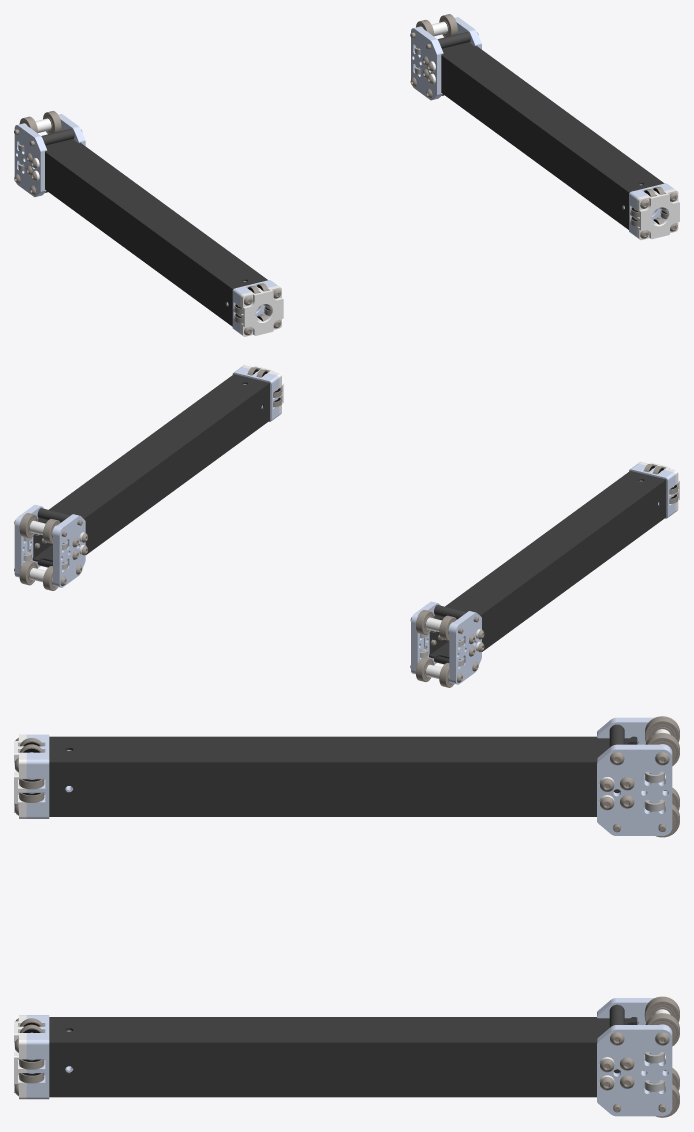
Rendered from Snapback_Climber_Middle_Stage.glb.
The picture shows the model from 3 angles, top to bottom: view 1: azimuth 30°, elevation 25°; view 2: azimuth 150°, elevation 25°; view 3: azimuth 270°, elevation 25°; orthographic projection. The views are drawn at different scales.
Visible parts, largest first — view 1: NAUO99, NAUO83, NAUO86, NAUO102, NAUO87, NAUO103; view 2: NAUO83, NAUO99, NAUO102, NAUO86, NAUO87, NAUO103; view 3: NAUO99, NAUO83, NAUO86, NAUO102, NAUO103, NAUO87.
Part boxes in pixels (x1,y1,x2,y2): NAUO99: [441, 42, 664, 229]; NAUO83: [45, 138, 267, 326]; NAUO86: [14, 111, 85, 196]; NAUO102: [410, 14, 481, 100]; NAUO87: [227, 280, 283, 336]; NAUO103: [623, 183, 679, 240]; NAUO83: [429, 471, 666, 658]; NAUO99: [32, 374, 269, 561]; NAUO102: [14, 505, 87, 590]; NAUO86: [410, 601, 484, 687]; NAUO87: [629, 461, 679, 518]; NAUO103: [232, 365, 283, 421]; NAUO99: [49, 1017, 637, 1097]; NAUO83: [49, 736, 637, 816]; NAUO86: [597, 716, 679, 837]; NAUO102: [597, 996, 679, 1117]; NAUO103: [14, 1015, 73, 1099]; NAUO87: [14, 734, 72, 818].
Bounding box in the file's own units: 0.4765 × 0.07 × 0.4207.
